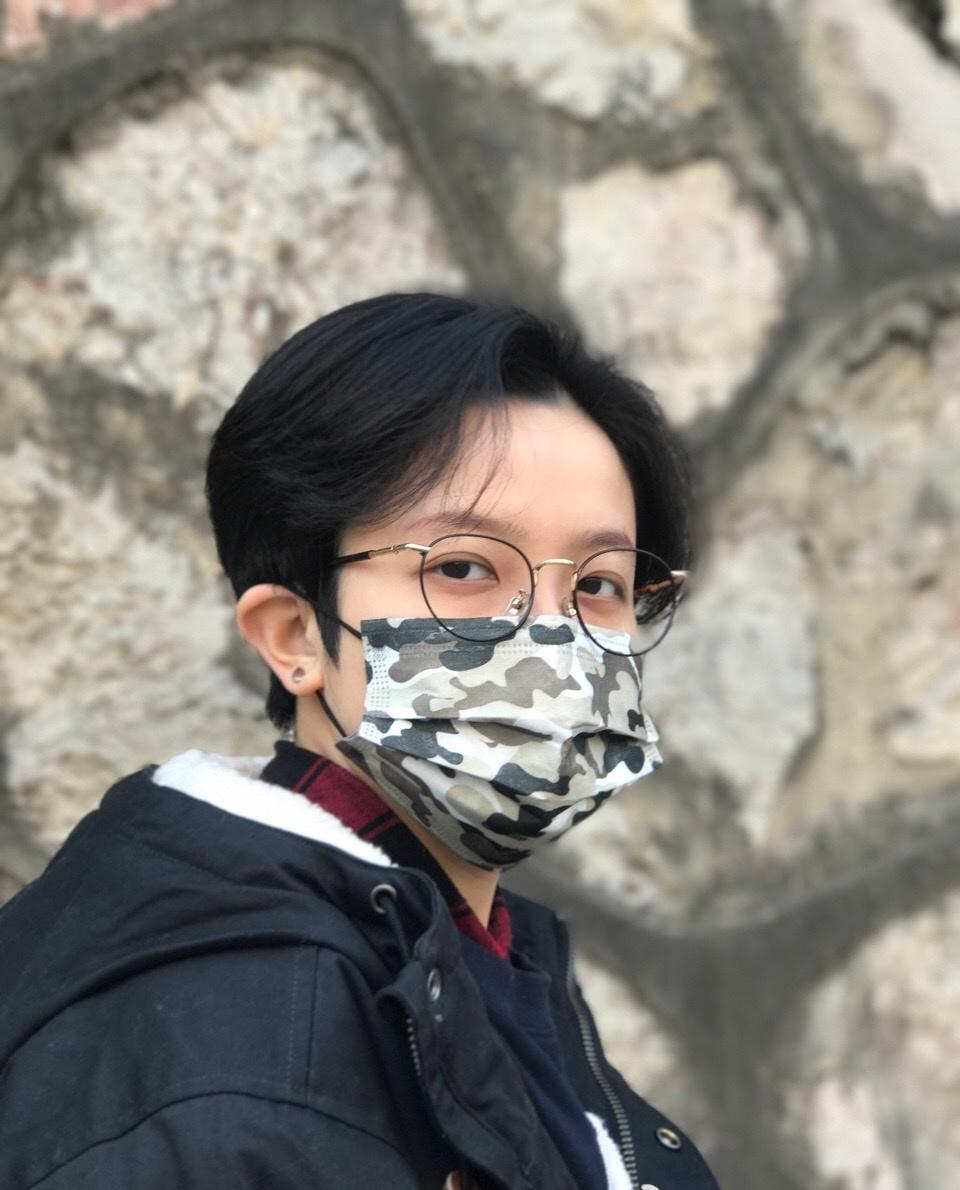OK: (286, 472, 683, 869)
